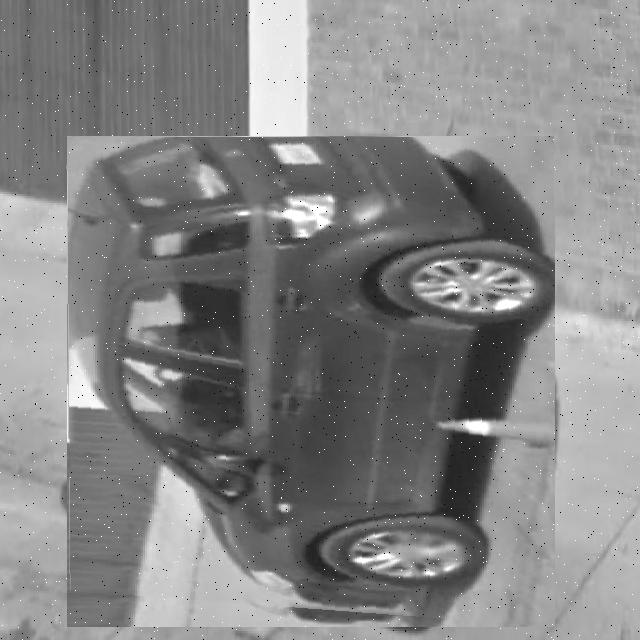car: (67, 138, 556, 628)
